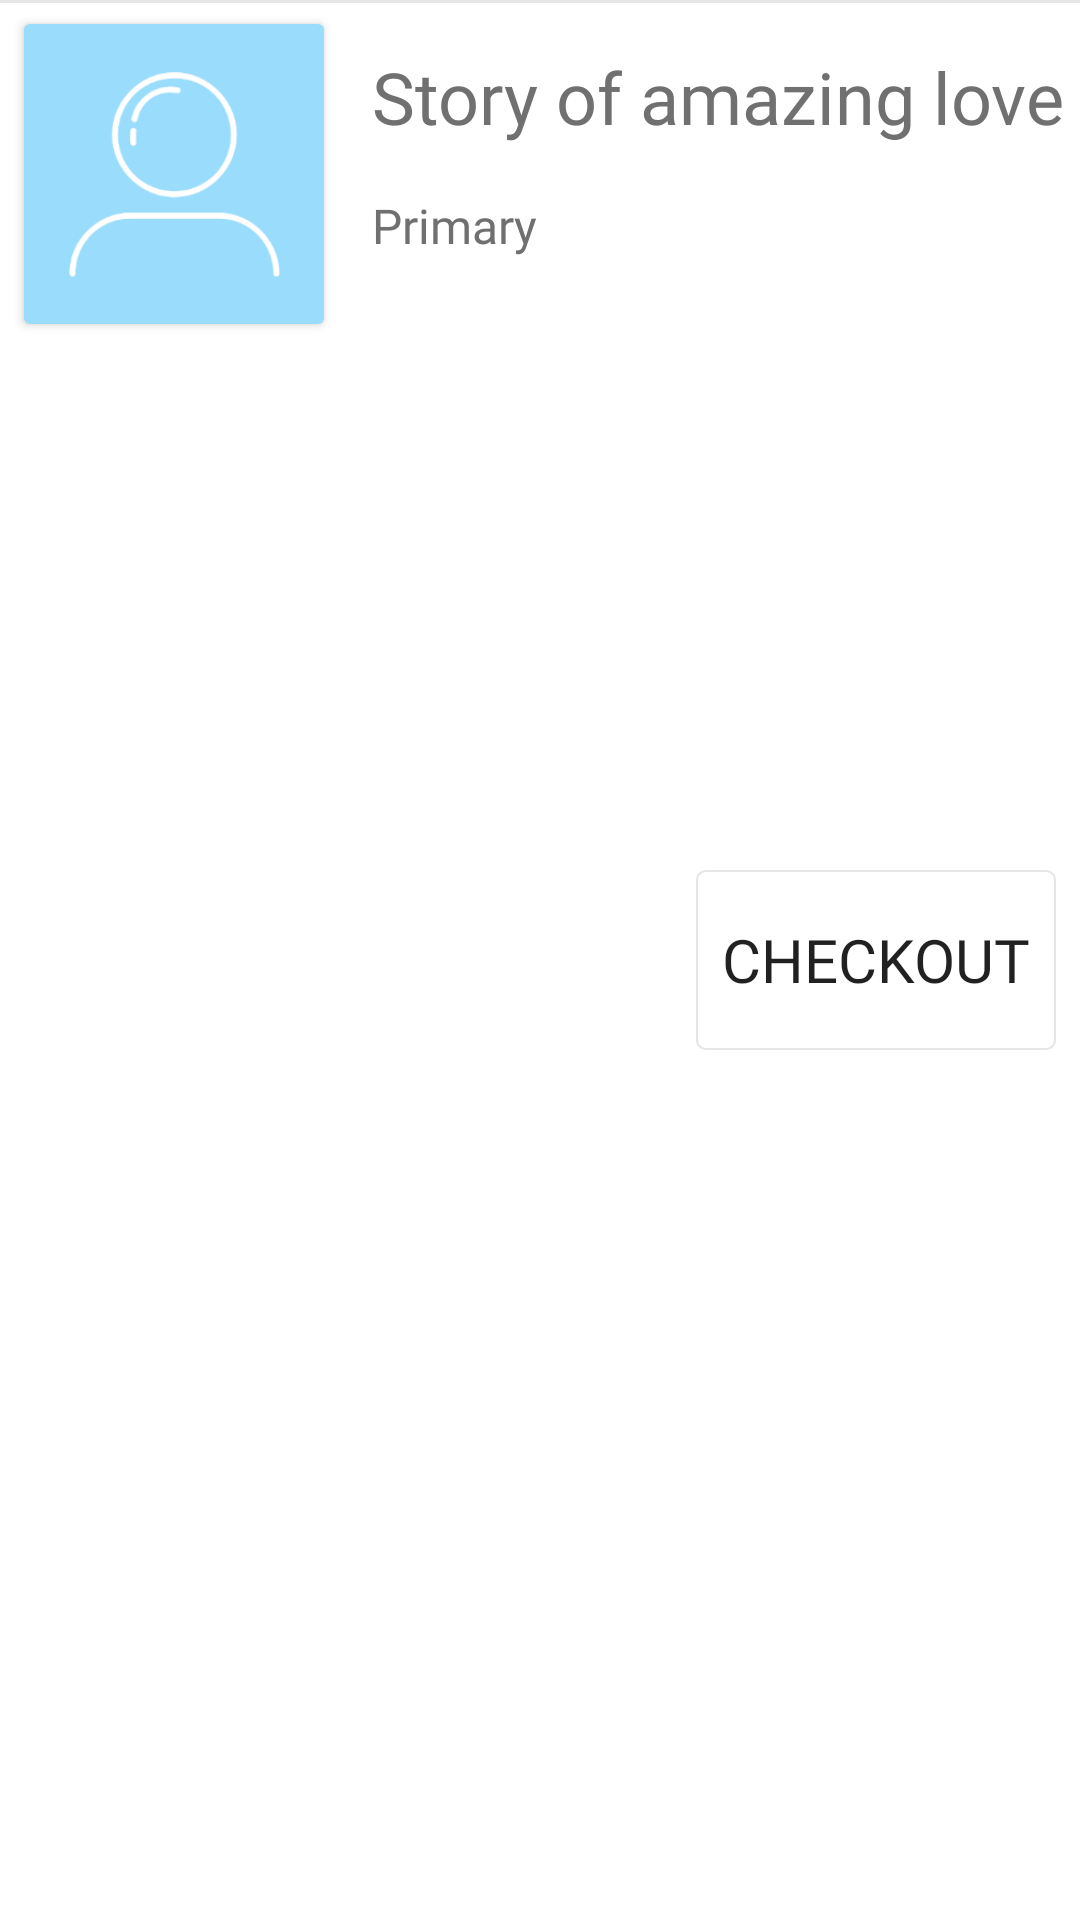

Named icons in this screenshot (1080×1920) and their bounding boxes, [x1, y1, x2, y2]:
profile: [69, 72, 280, 277]
